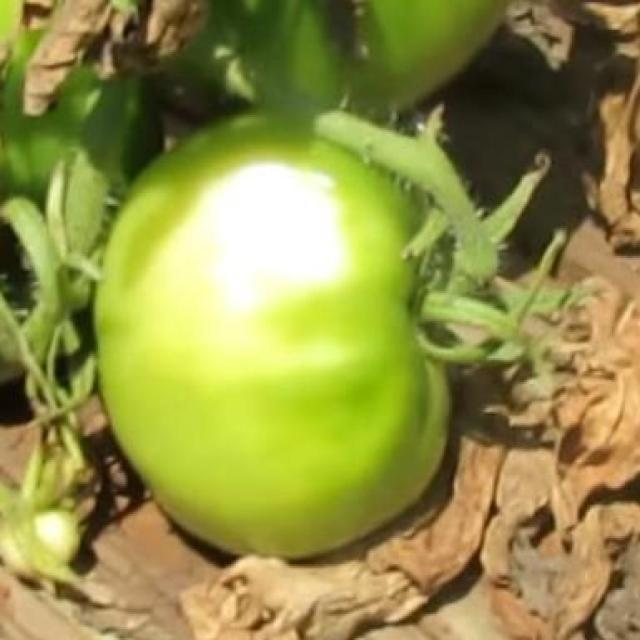Sunscald Fruit: (108, 96, 245, 241)
